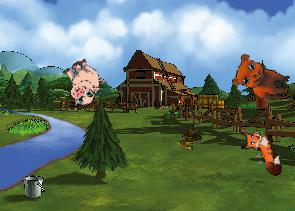bear: (230, 52, 294, 102)
fox: (237, 123, 284, 182)
pig: (55, 54, 109, 109)
